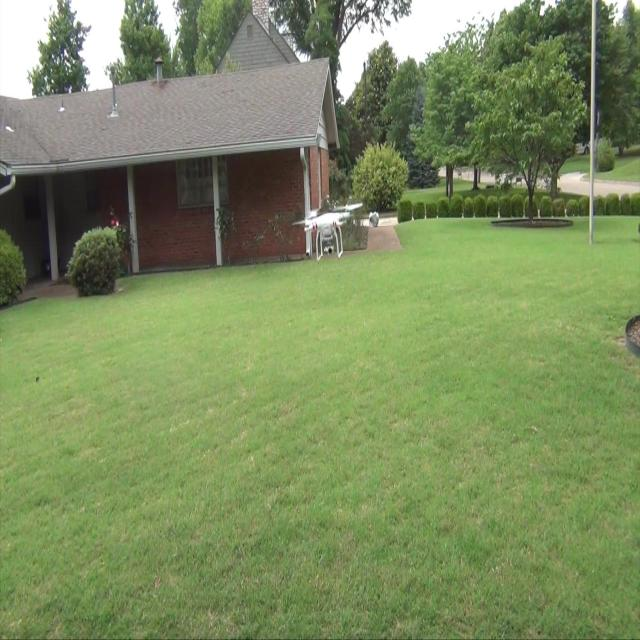drone: (297, 200, 361, 260)
